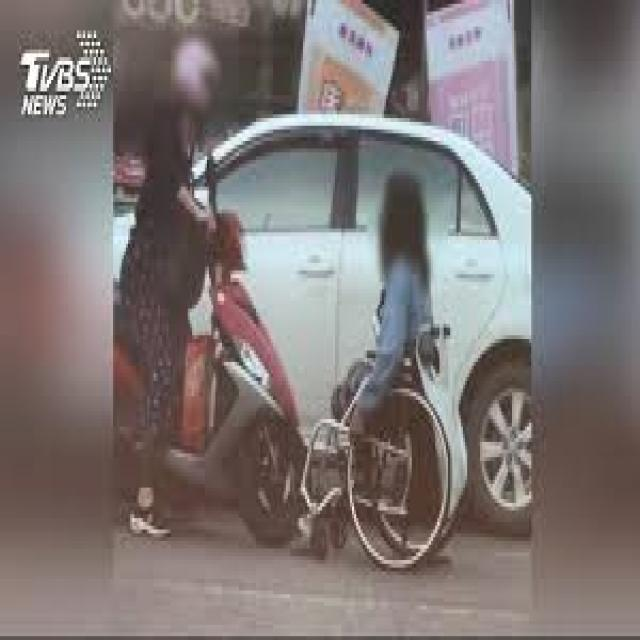wheelchairs: (294, 301, 491, 564)
